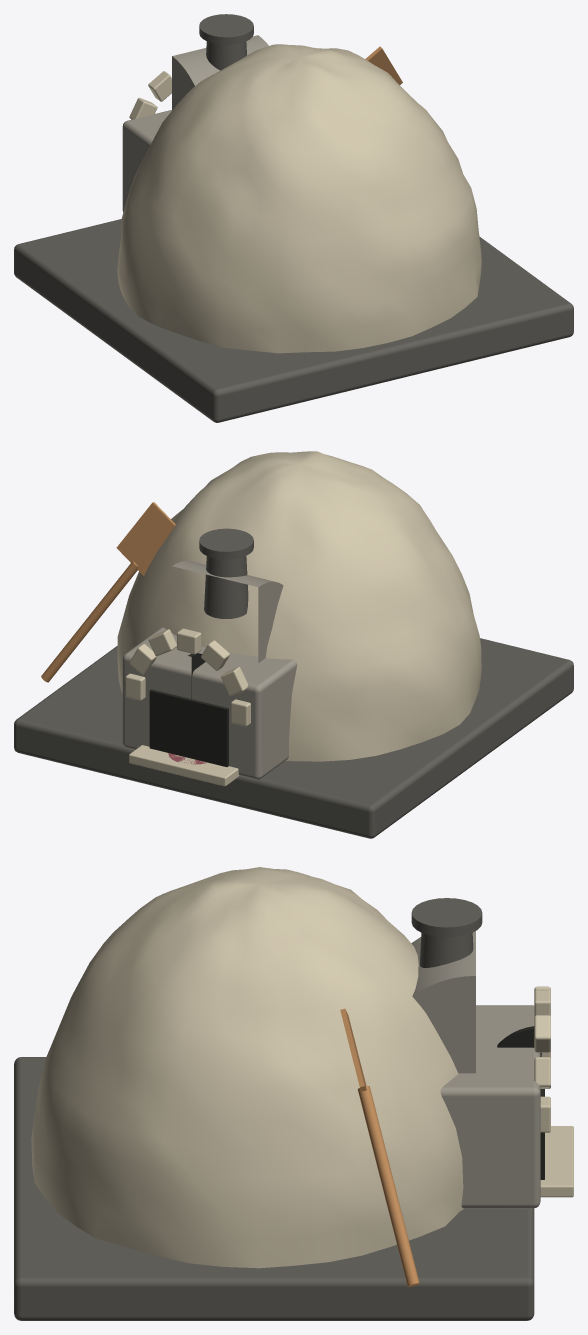
File: detail_bread_oven.glb
The picture shows the model from 3 angles, top to bottom: view 1: azimuth 30°, elevation 25°; view 2: azimuth 150°, elevation 25°; view 3: azimuth 270°, elevation 25°; orthographic projection. The views are drawn at different scales.
Parts seen in each view (by area): view 1: stone, brick, wood; view 2: stone, brick, wood, object 5, metal; view 3: stone, brick, wood, metal, object 6.
Boxes of the visible parts, bbox=[...] form: stone: bbox=[117, 35, 481, 353]; brick: bbox=[14, 14, 573, 422]; wood: bbox=[129, 71, 171, 119]; stone: bbox=[117, 451, 481, 779]; brick: bbox=[14, 528, 573, 838]; wood: bbox=[41, 561, 250, 786]; object 5: bbox=[149, 689, 228, 766]; metal: bbox=[116, 502, 175, 575]; stone: bbox=[31, 867, 540, 1268]; brick: bbox=[14, 898, 534, 1320]; wood: bbox=[357, 986, 573, 1286]; metal: bbox=[340, 1008, 366, 1091]; object 6: bbox=[497, 1026, 541, 1056].
Size of the model in its own units: 2.8 by 1.8 by 2.8.
